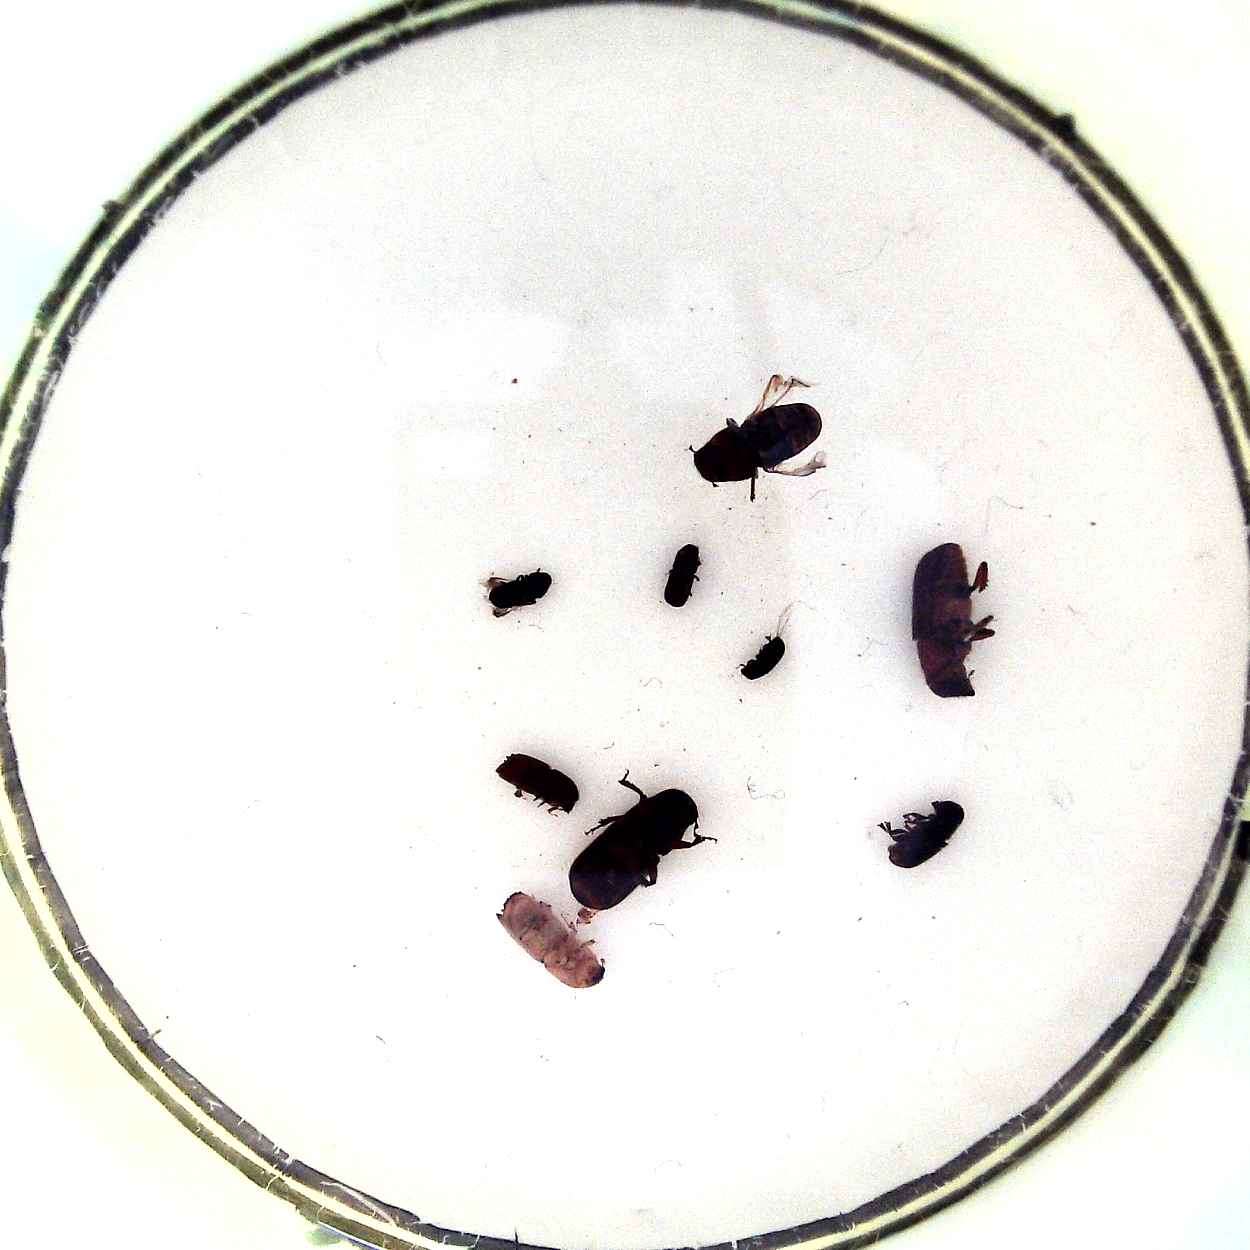Boerner: (490, 887, 611, 992)
Leconte: (562, 764, 713, 919), (683, 369, 836, 508), (902, 538, 1000, 703)
Linnaeus: (490, 749, 582, 818)
armandi: (875, 796, 970, 875)
coleoptera: (472, 562, 556, 626), (739, 610, 796, 685), (654, 533, 705, 611)
